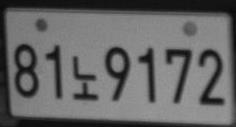1: (135, 47, 161, 102), (44, 45, 69, 98)
2: (198, 48, 225, 106)
7: (166, 48, 192, 103)
8: (14, 43, 38, 98)
9: (104, 46, 130, 101)
노: (72, 55, 98, 99)
